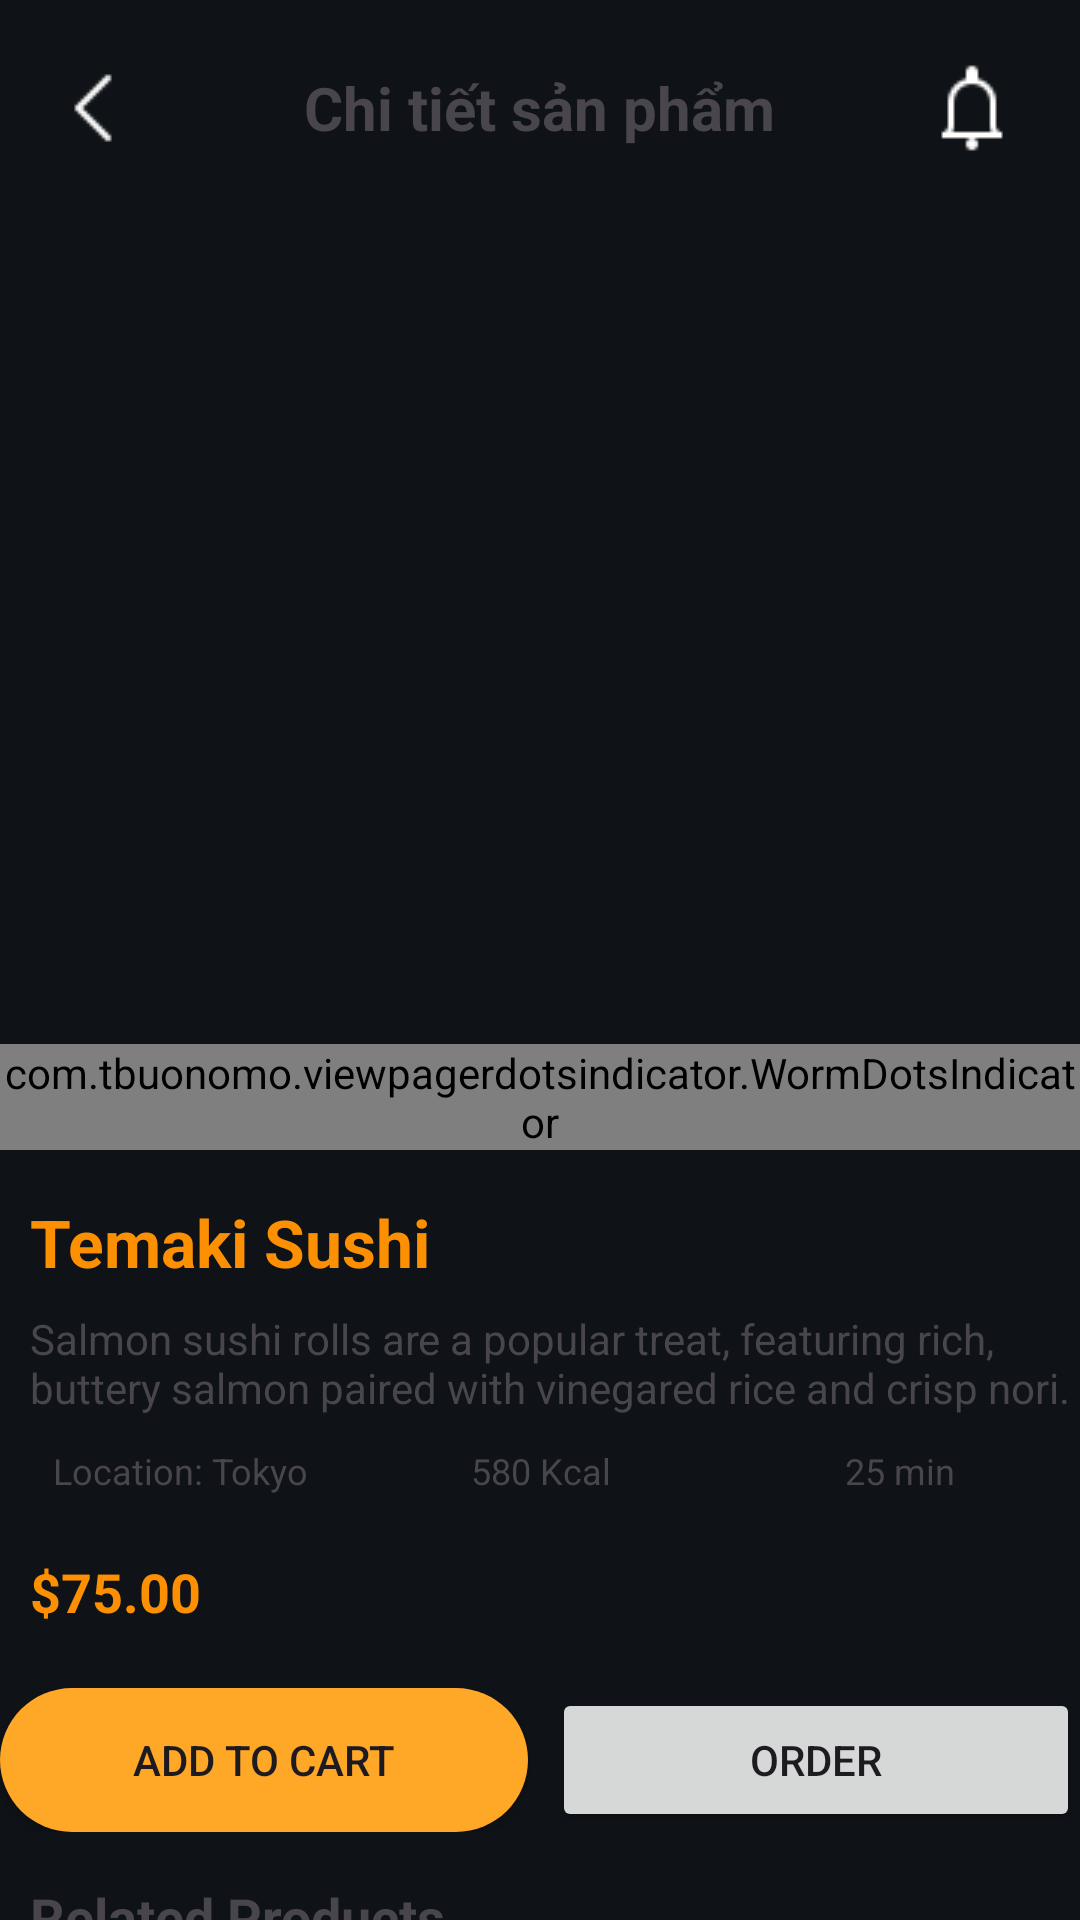

Where to tap for icons on this 1080 x 1920 app screen, as point (x, y):
Back: point (93, 108)
Notification: point (972, 108)
